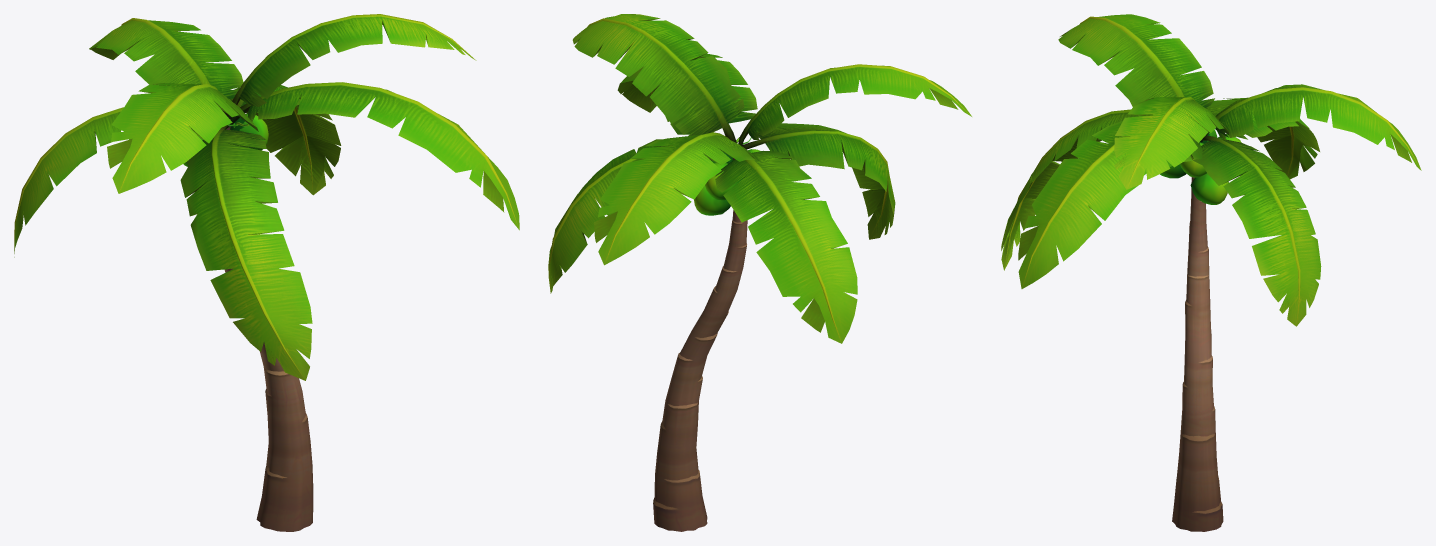
The model's file is coconut_tree.fbx.
3 views of the same model, side by side, from view 1: azimuth 30°, elevation 25°; view 2: azimuth 150°, elevation 25°; view 3: azimuth 270°, elevation 25° (orthographic). The views are drawn at different scales.
Parts seen in each view (by area): view 1: coconut_tree_LOD0; view 2: coconut_tree_LOD0; view 3: coconut_tree_LOD0.
Boxes of the visible parts, bbox=[...] form: coconut_tree_LOD0: bbox=[14, 14, 519, 531]; coconut_tree_LOD0: bbox=[548, 14, 971, 531]; coconut_tree_LOD0: bbox=[1001, 14, 1421, 531].
Size of what is drawn, in the model's own units: 295 by 362 by 314.
Materials: 1 (1 with a texture image).
